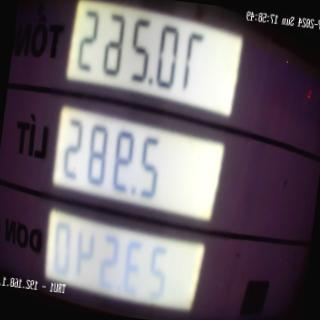screen: (29, 0, 256, 320)
